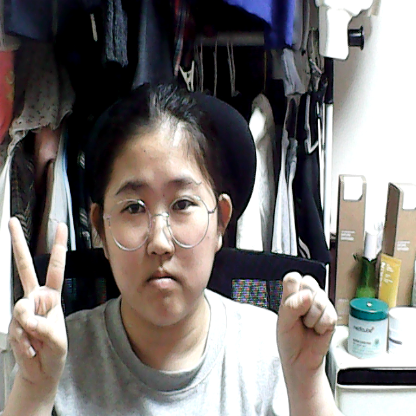Finger_0: (260, 251, 344, 379)
Finger_2: (1, 210, 79, 400)
